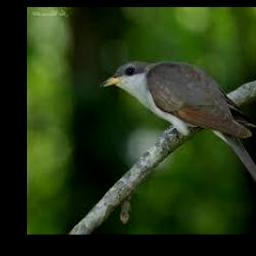Cuckoo: (101, 60, 256, 209)
